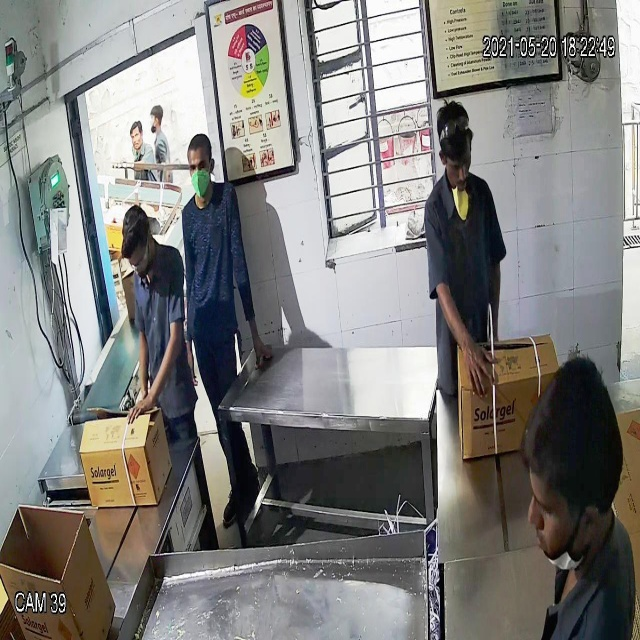Sin_gafas: (439, 146, 474, 176)
